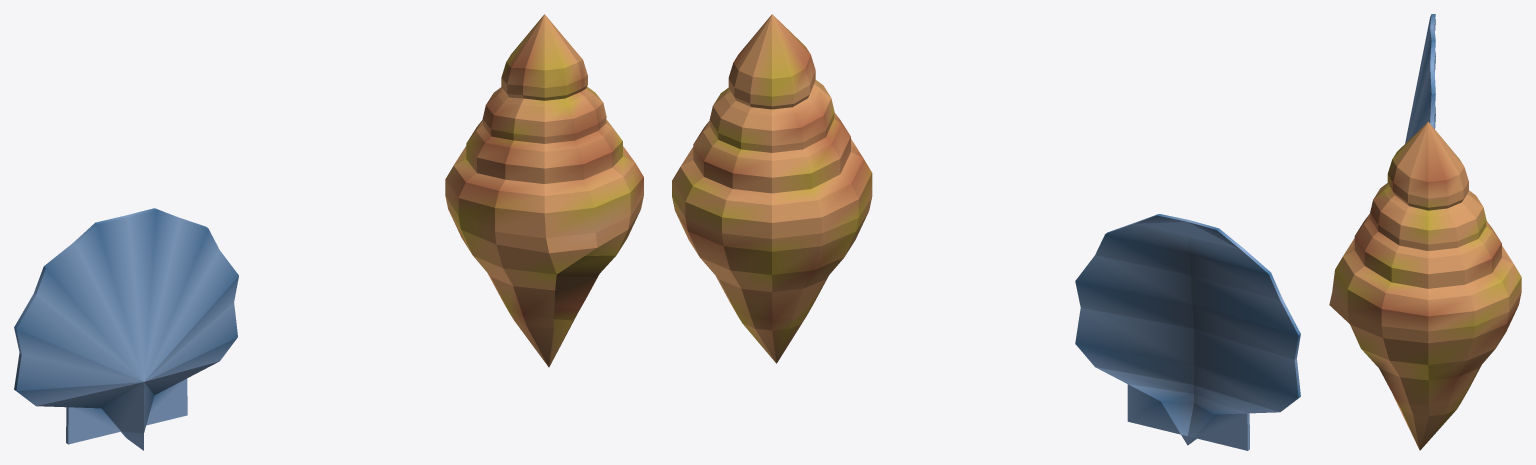
Rendered from Cenario2.fbx.
The picture shows the model from 3 angles, left to right: view 1: azimuth 30°, elevation 25°; view 2: azimuth 150°, elevation 25°; view 3: azimuth 270°, elevation 25°; orthographic projection. The views are drawn at different scales.
Parts seen in each view (by area): view 1: conchaEspiral, conchaFina; view 2: conchaEspiral, conchaFina; view 3: conchaEspiral, conchaFina.
Boxes of the visible parts, x1=… form: conchaEspiral: x1=445, y1=14, x2=643, y2=367; conchaFina: x1=14, y1=208, x2=238, y2=450; conchaEspiral: x1=672, y1=14, x2=872, y2=363; conchaFina: x1=1075, y1=214, x2=1300, y2=450; conchaEspiral: x1=1329, y1=121, x2=1521, y2=450; conchaFina: x1=1405, y1=14, x2=1435, y2=143.
Bounding box in the file's own units: 222 × 121 × 64.14.
